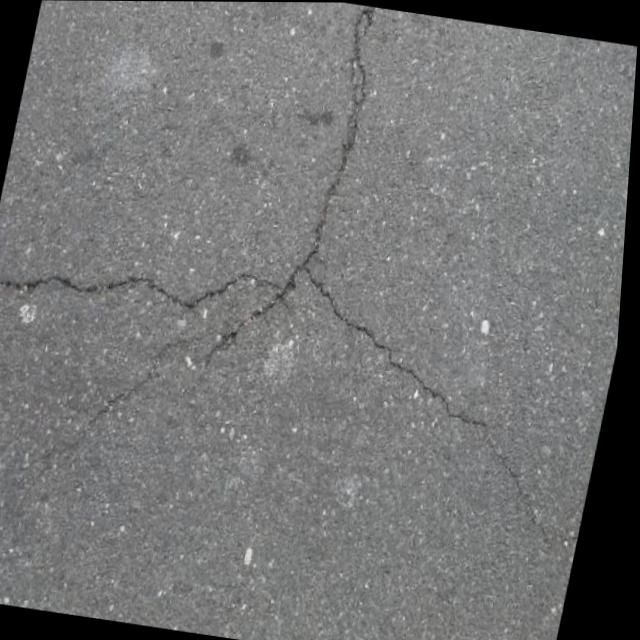Crack: (0, 211, 587, 514), (211, 1, 391, 375)
